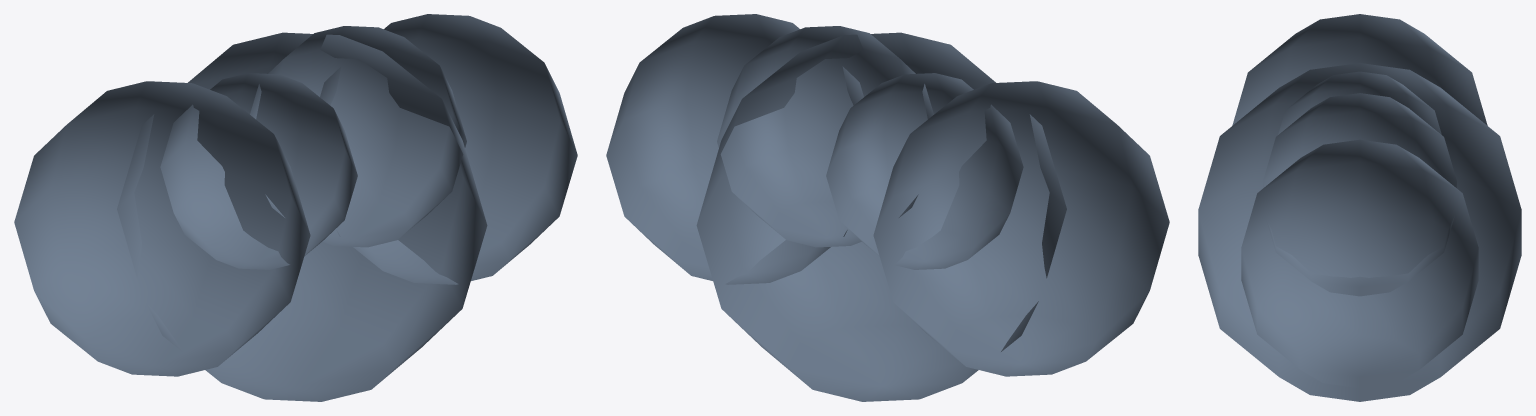
The model's file is bg_cloud.glb.
3 renders of one model, left to right at view 1: azimuth 30°, elevation 25°; view 2: azimuth 150°, elevation 25°; view 3: azimuth 270°, elevation 25°, orthographic. The views are drawn at different scales.
Bounding box in the file's own units: 98 × 60 × 57.06.
